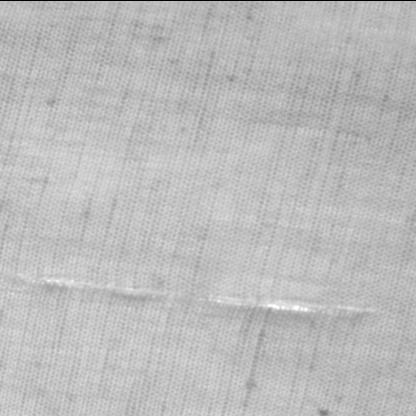thread error: (12, 270, 374, 324)
